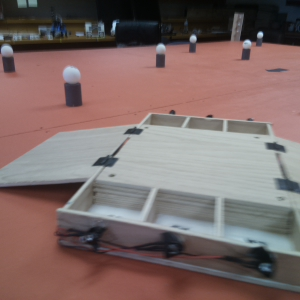corner: (229, 11, 243, 40)
obstacle: (59, 64, 88, 110), (2, 43, 16, 75), (154, 43, 169, 71), (185, 32, 200, 56), (242, 41, 252, 63), (254, 30, 265, 47)
side: (41, 203, 298, 287), (143, 107, 274, 137)
slope: (1, 125, 141, 173), (271, 138, 300, 201)
start: (265, 63, 287, 79)
